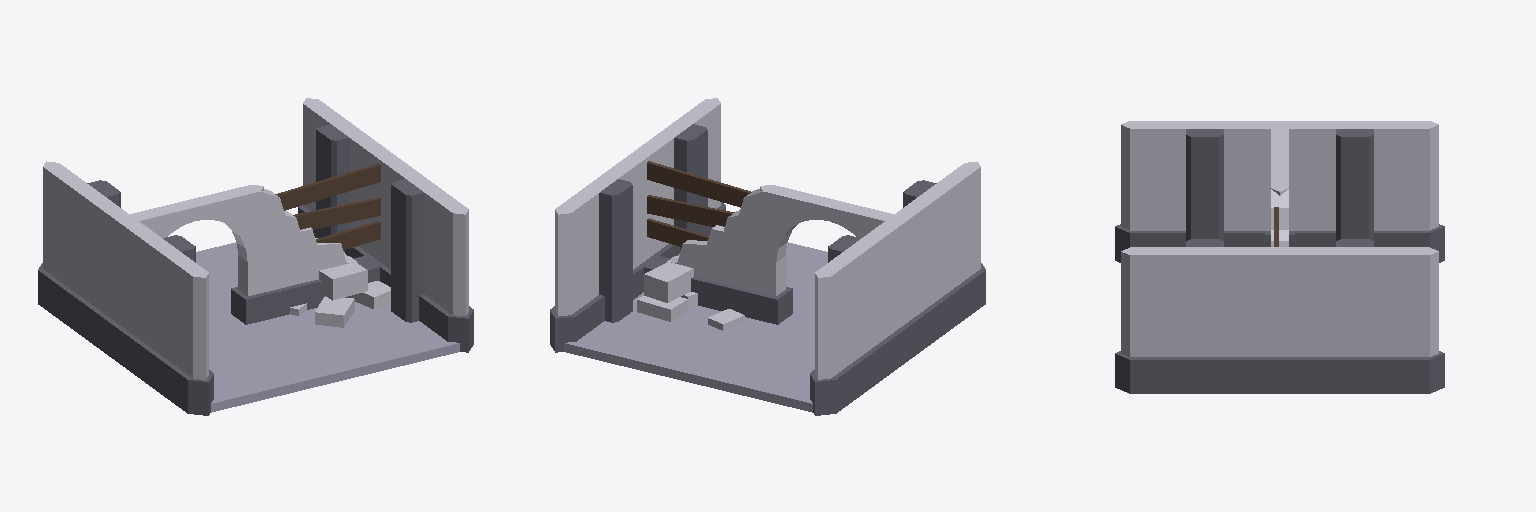
Rendered from hallway_05.obj.
3 views of the same model, side by side, from view 1: azimuth 30°, elevation 25°; view 2: azimuth 150°, elevation 25°; view 3: azimuth 270°, elevation 25° (orthographic).
Visible parts, largest first — view 1: floor_01_11, wall_02_13, wall_02_15, wall_02_12, arch_01_20, wall_02_14, wall_ruined_23, planks_wall_22, debris_bricks_21, wall_border_24; view 2: floor_01_11, wall_02_12, wall_02_14, wall_02_13, arch_01_20, wall_02_15, wall_ruined_23, planks_wall_22, debris_bricks_21, wall_border_24; view 3: wall_02_14, wall_02_15, wall_02_12, wall_02_13, arch_01_20, wall_ruined_23.
Boxes of the visible parts, <box> form: floor_01_11: <box>196,242,459,412</box>; wall_02_13: <box>113,218,213,415</box>; wall_02_15: <box>373,153,473,352</box>; wall_02_12: <box>38,161,133,358</box>; arch_01_20: <box>113,185,263,325</box>; wall_02_14: <box>298,98,393,261</box>; wall_ruined_23: <box>257,189,357,292</box>; planks_wall_22: <box>275,164,380,249</box>; debris_bricks_21: <box>290,252,390,327</box>; wall_border_24: <box>256,255,384,320</box>; floor_01_11: <box>564,242,827,412</box>; wall_02_12: <box>810,217,910,415</box>; wall_02_14: <box>550,153,645,352</box>; wall_02_13: <box>890,161,985,358</box>; arch_01_20: <box>760,185,893,324</box>; wall_02_15: <box>631,98,725,261</box>; wall_ruined_23: <box>666,188,775,292</box>; planks_wall_22: <box>647,161,751,246</box>; debris_bricks_21: <box>637,254,744,330</box>; wall_border_24: <box>639,255,767,320</box>; wall_02_14: <box>1271,239,1444,393</box>; wall_02_15: <box>1115,239,1286,393</box>; wall_02_12: <box>1271,121,1444,262</box>; wall_02_13: <box>1115,121,1286,262</box>; arch_01_20: <box>1265,122,1294,246</box>; wall_ruined_23: <box>1271,184,1288,246</box>.
Bounding box in the file's own units: 2.21 × 1 × 2.21.